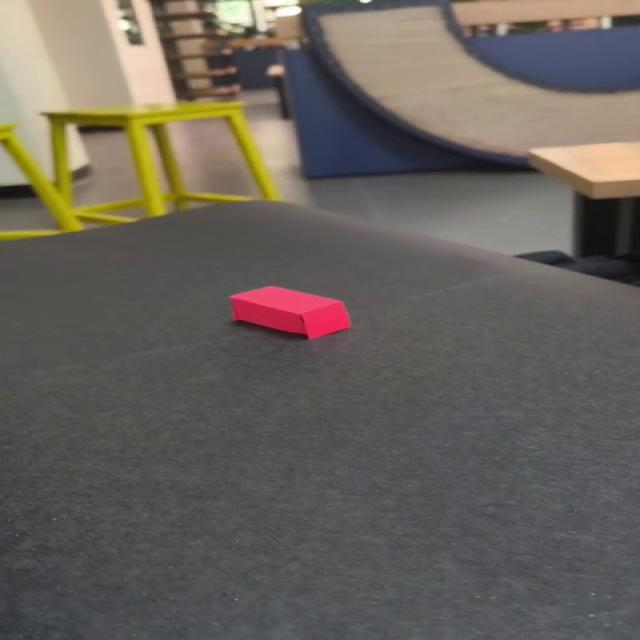red block: (227, 284, 351, 340)
